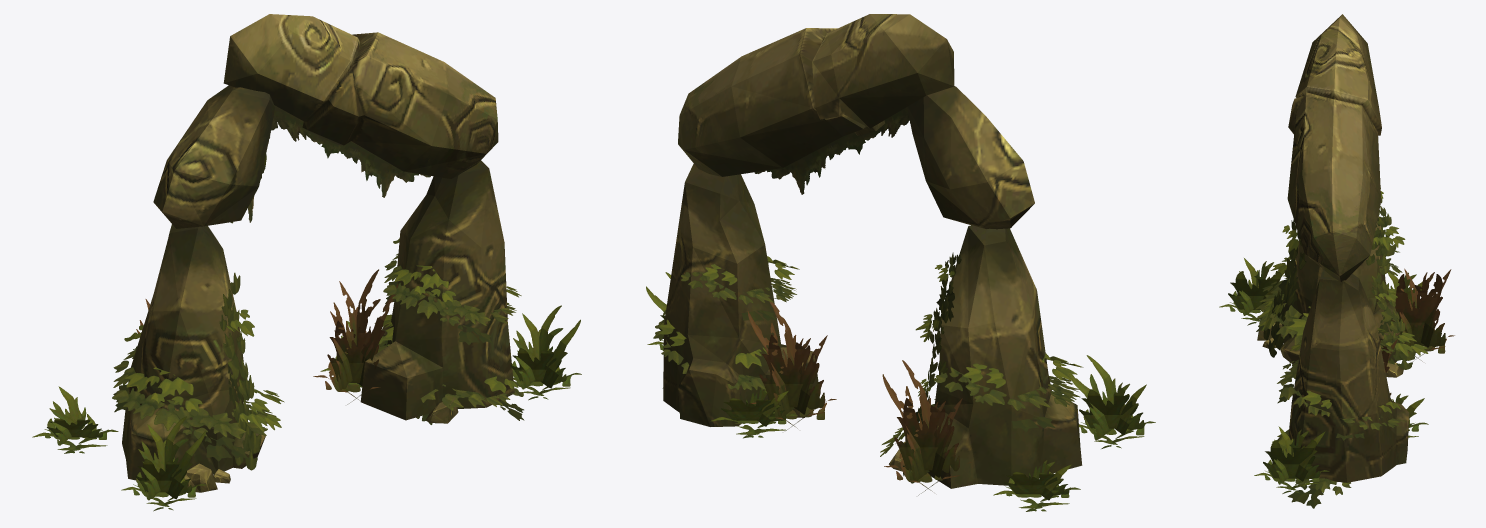
The model's file is esthgraveyard_arch_01.fbx.
3 views of the same model, side by side, from view 1: azimuth 30°, elevation 25°; view 2: azimuth 150°, elevation 25°; view 3: azimuth 270°, elevation 25° (orthographic). The views are drawn at different scales.
Visible parts, largest first — view 1: obj3.007; view 2: obj3.007; view 3: obj3.007.
Boxes of the visible parts, x1,y1,x2,y2 form: obj3.007: (32,14,581,511); obj3.007: (646,14,1155,511); obj3.007: (1219,14,1454,508).
Bounding box in the file's own units: 7.66 × 6.61 × 4.11.
